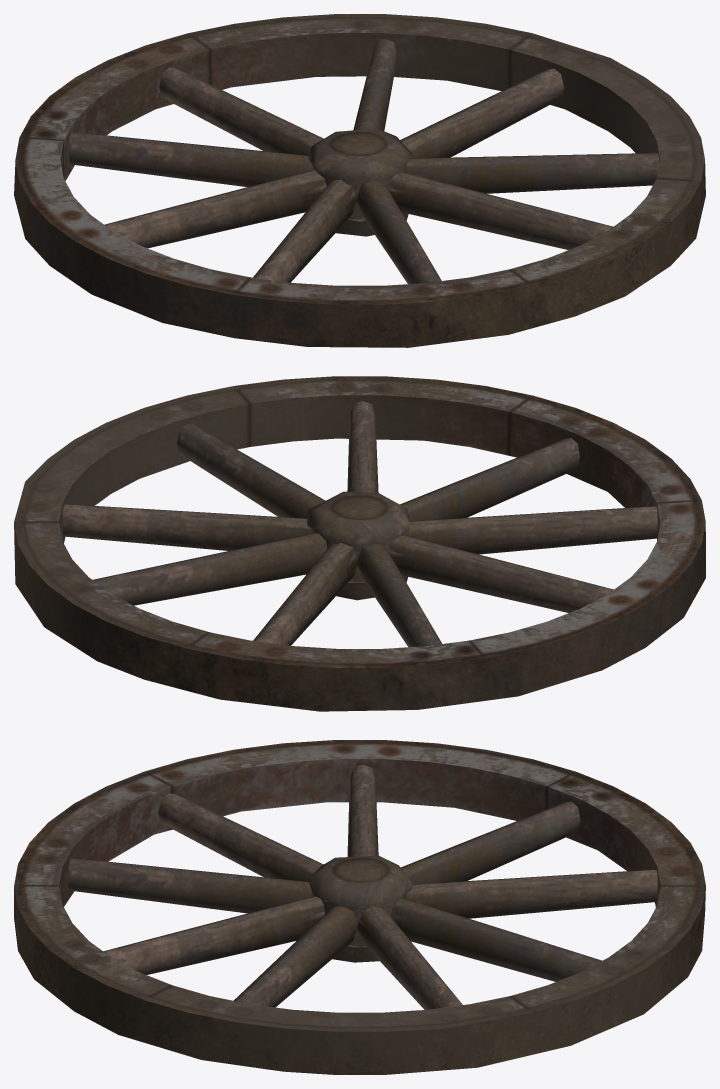
File: SM_carriage_wheel_01.fbx
3 views of the same model, one above another, from view 1: azimuth 30°, elevation 25°; view 2: azimuth 150°, elevation 25°; view 3: azimuth 270°, elevation 25° (orthographic).
Visible parts, largest first — view 1: SM_carriage_wheel_01_LOD0; view 2: SM_carriage_wheel_01_LOD0; view 3: SM_carriage_wheel_01_LOD0.
Part boxes in pixels (x1,y1,x2,y2): SM_carriage_wheel_01_LOD0: (14,14,705,347); SM_carriage_wheel_01_LOD0: (14,376,705,711); SM_carriage_wheel_01_LOD0: (14,740,705,1074).
Size of the model in its own units: 99.22 by 99.52 by 11.64.
Materials: 1 (1 with a texture image).
